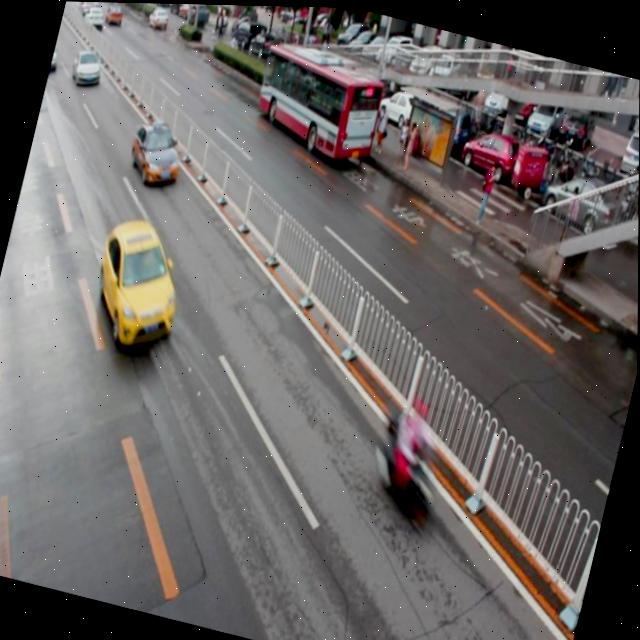car: (83, 209, 196, 355), (124, 114, 191, 192)
van: (247, 38, 388, 166)
